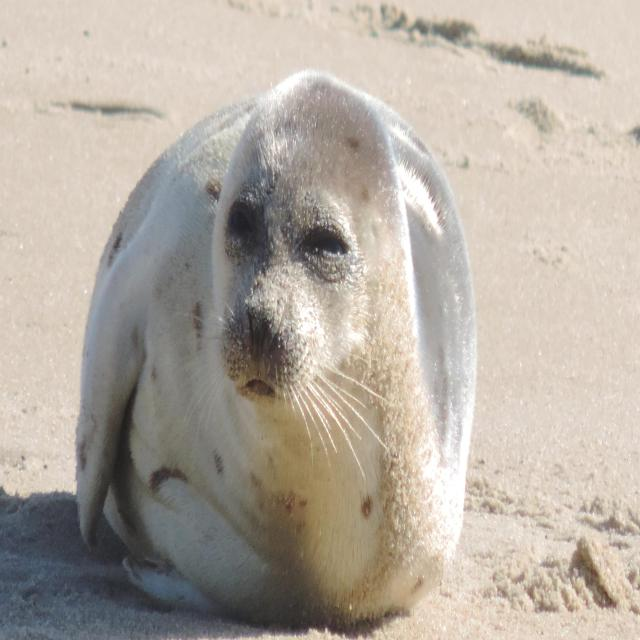WaterDog: (75, 78, 481, 610)
